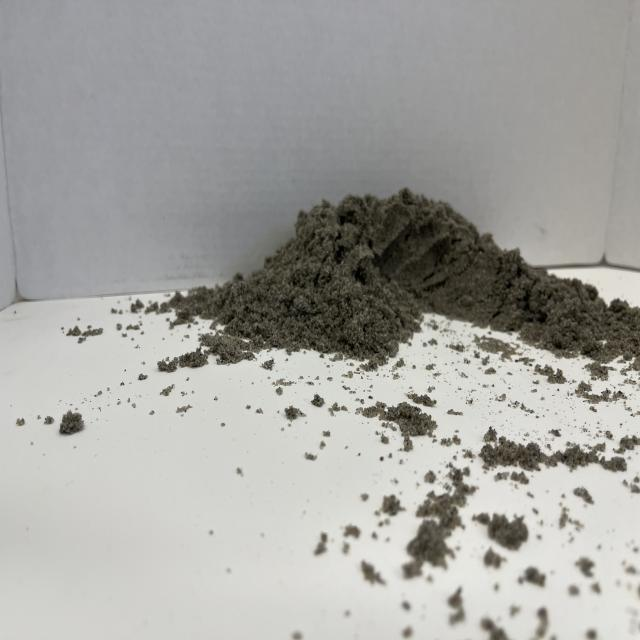sand: (198, 166, 581, 364)
